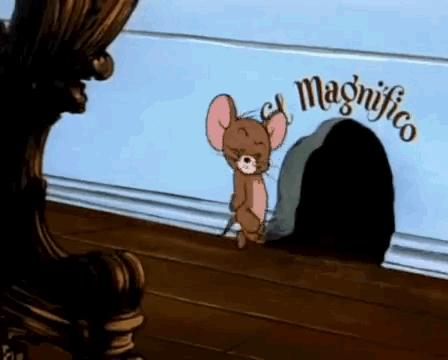jerry: (203, 92, 288, 250)
